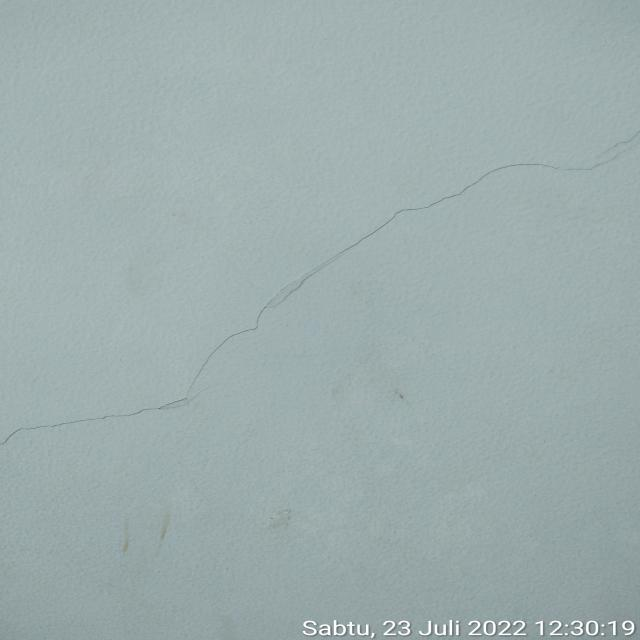Crack: (397, 128, 633, 222), (311, 208, 390, 299), (0, 400, 113, 445), (200, 316, 260, 376), (120, 382, 204, 424), (261, 267, 307, 323)
